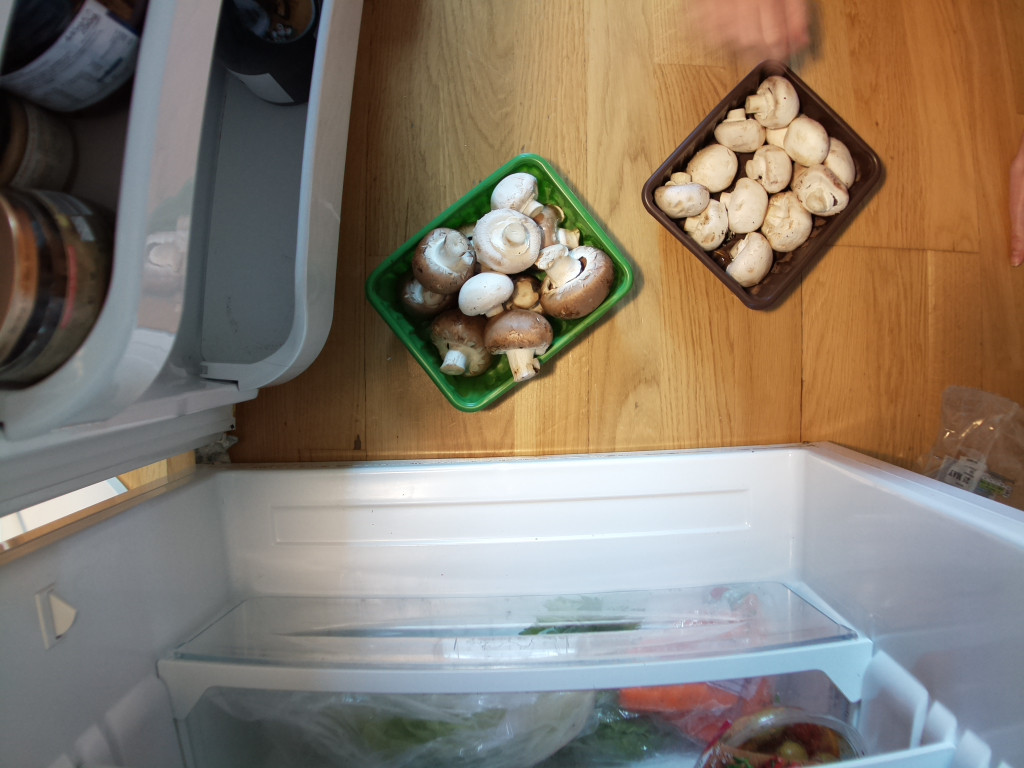mushrooms: (362, 146, 650, 416), (643, 56, 892, 318)
